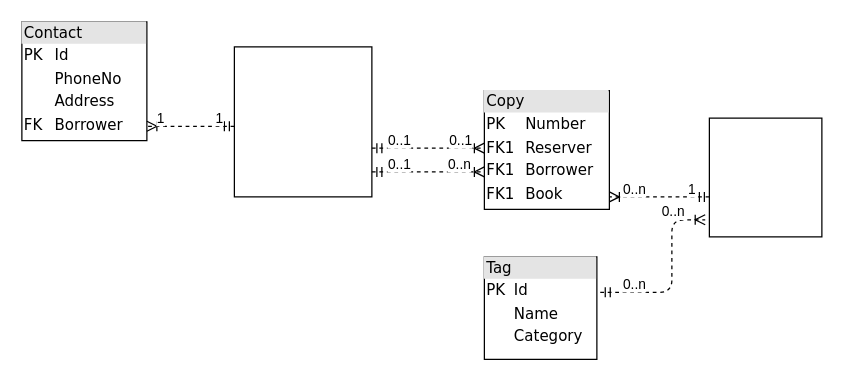
Some shapes in this 844 by 381 pixel diagram are drawn without their labels. The shapes that lost their labels are listed below. From the top down, each one's centre as x and y in pixels, then its label:
pixel 302 121: Borrower PK IdentityNo Name Contact Reservation Borrowed
pixel 765 177: Book PK Id Name Copies FK Tags
